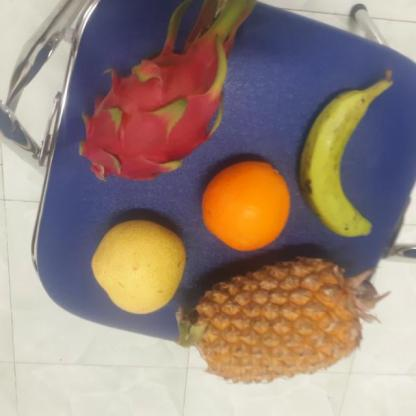banana: (298, 86, 380, 236)
guava: (89, 219, 187, 312)
pear: (86, 216, 188, 312), (198, 161, 294, 250)
pineapple: (182, 255, 367, 383)
pitaya: (74, 40, 234, 182)
